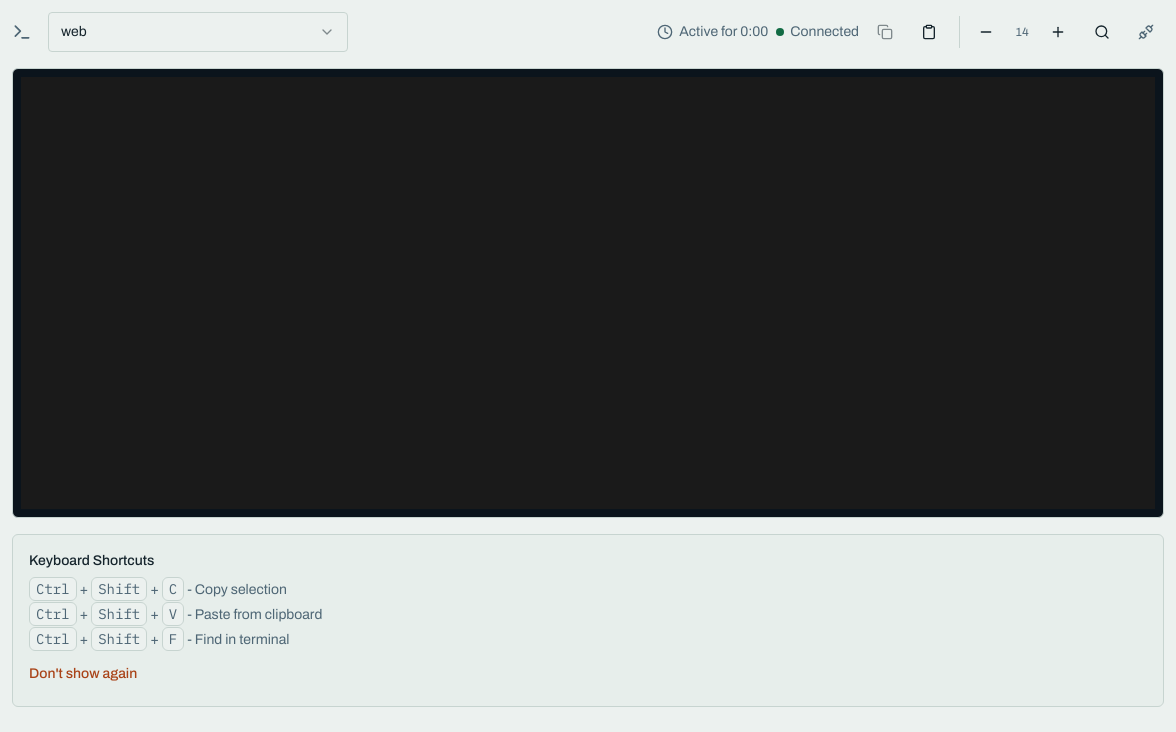
TerminalComponent — disconnect / reconnect controls › disconnects and toasts info when the disconnect button is clicked
This screenshot has width=1176, height=732.
Click the button titled "Disconnect terminal": (1146, 32) [1128, 16, 1164, 48]
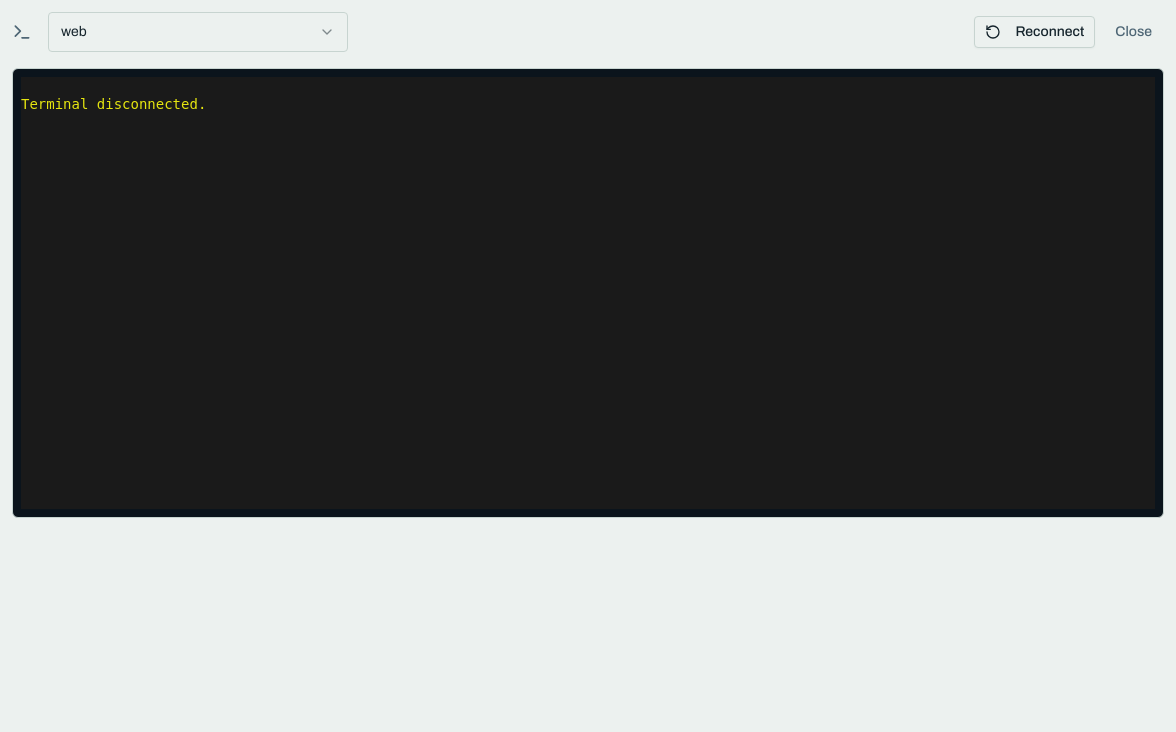
Now the button "Reconnect" is shown, box [974, 16, 1095, 48]
